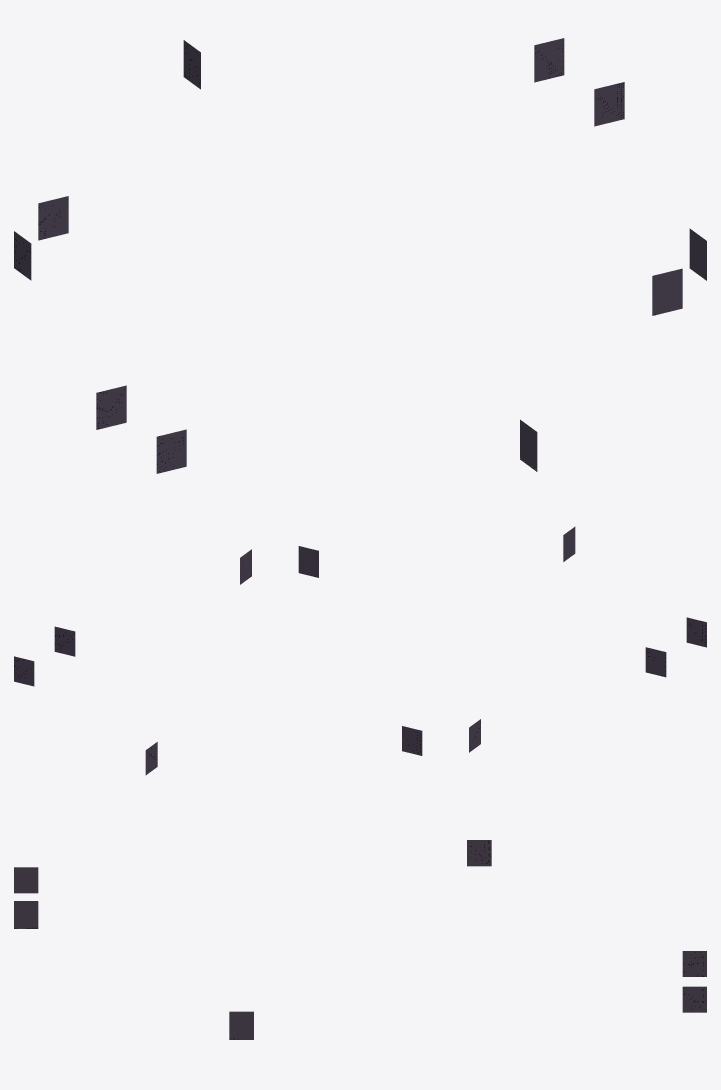
Rendered from NetherCheckPoints.glb.
3 renders of one model, top to bottom at view 1: azimuth 30°, elevation 25°; view 2: azimuth 150°, elevation 25°; view 3: azimuth 270°, elevation 25°, orthographic. The views are drawn at different scales.
Visible parts, largest first — view 1: blackstone_top.021; view 2: blackstone_top.021; view 3: blackstone_top.021.
Boxes of the visible parts, left/top/right/bottom form: blackstone_top.021: left=14, top=38, right=706, bottom=473; blackstone_top.021: left=14, top=526, right=706, bottom=775; blackstone_top.021: left=14, top=840, right=706, bottom=1039.
Bounding box in the file's own units: 261 × 14 × 312.
5 materials, 5 textured.
